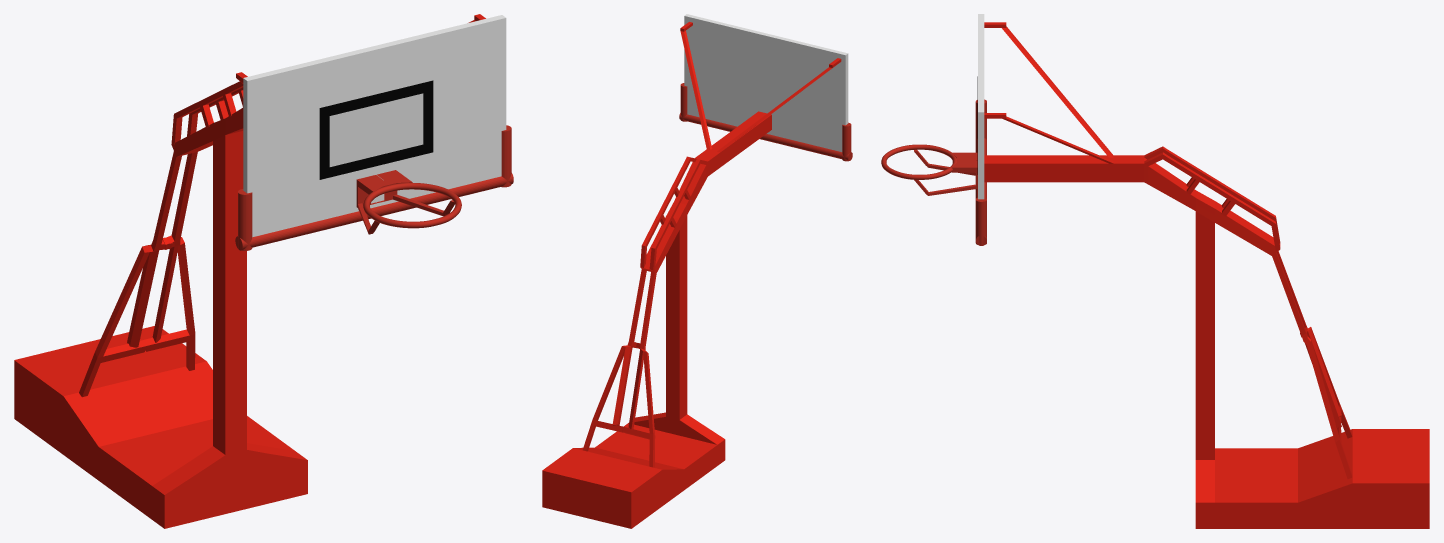
Rendered from sama_town_basketball.fbx.
3 views of the same model, side by side, from view 1: azimuth 30°, elevation 25°; view 2: azimuth 150°, elevation 25°; view 3: azimuth 270°, elevation 25° (orthographic). The views are drawn at different scales.
Parts seen in each view (by area): view 1: paneau, support_arceau, CercleNURBS; view 2: paneau; view 3: paneau, support_arceau, CercleNURBS.
Part boxes in pixels (<box>): paneau: <box>14,14,513,528</box>; support_arceau: <box>356,170,454,234</box>; CercleNURBS: <box>363,183,461,228</box>; paneau: <box>542,14,852,528</box>; paneau: <box>975,14,1429,528</box>; support_arceau: <box>914,149,977,195</box>; CercleNURBS: <box>881,144,957,179</box>.
Bounding box in the file's own units: 189 × 375 × 424.
